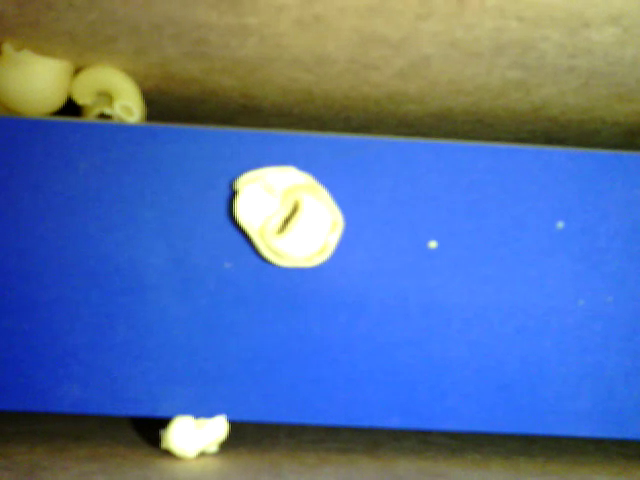elbow: (71, 61, 144, 120)
shell: (1, 42, 73, 116)
tortellini: (230, 163, 347, 270)
